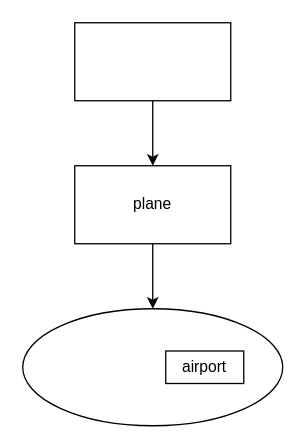
The diagram is 306 pixels wide and 448 high, and some of its shapes have lost their labels. The shapes that lost their labels are listed below. From the top down, each one's box as (x1, y1, x2, y2) in pixels, then its label:
(73, 21, 231, 101): ATC
(21, 307, 283, 426): land at .
